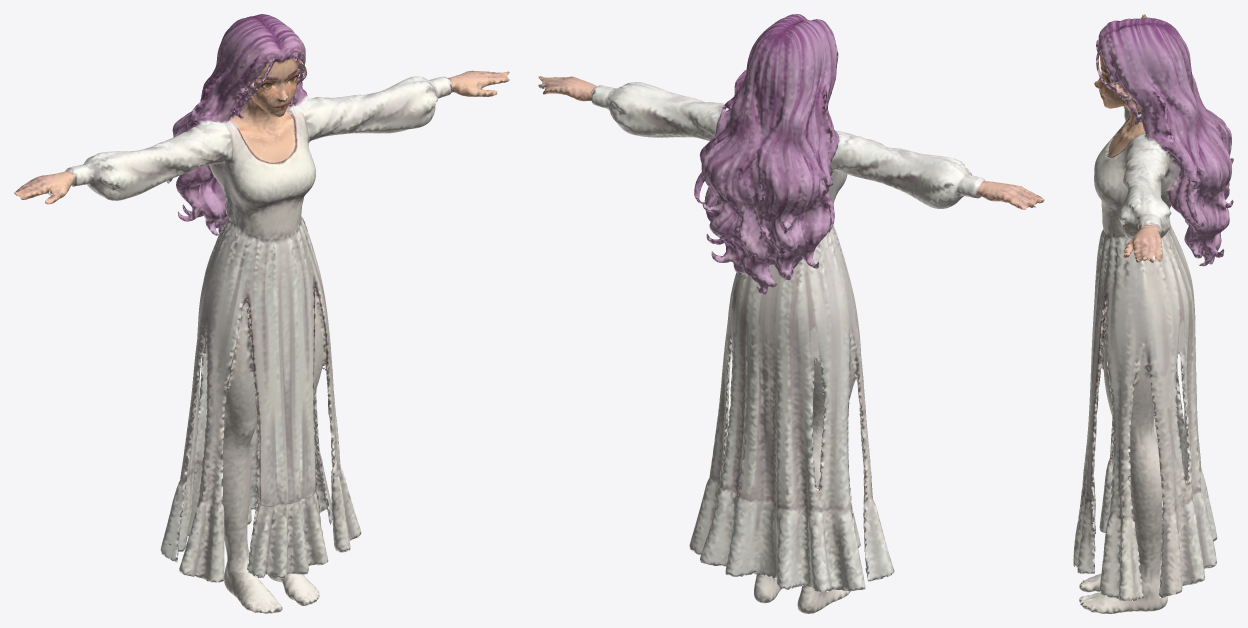
The model's file is female-meshy-hq-fixed.fbx.
The picture shows the model from 3 angles, left to right: view 1: azimuth 30°, elevation 25°; view 2: azimuth 150°, elevation 25°; view 3: azimuth 270°, elevation 25°; orthographic projection. The views are drawn at different scales.
Parts seen in each view (by area): view 1: Mesh_0; view 2: Mesh_0; view 3: Mesh_0.
Part boxes in pixels (bbox=[...]): Mesh_0: bbox=[14, 14, 509, 613]; Mesh_0: bbox=[538, 14, 1044, 613]; Mesh_0: bbox=[1073, 14, 1233, 613].
Size of the model in its own units: 1.74 by 1.91 by 0.483.
Materials: 1 (1 with a texture image).
